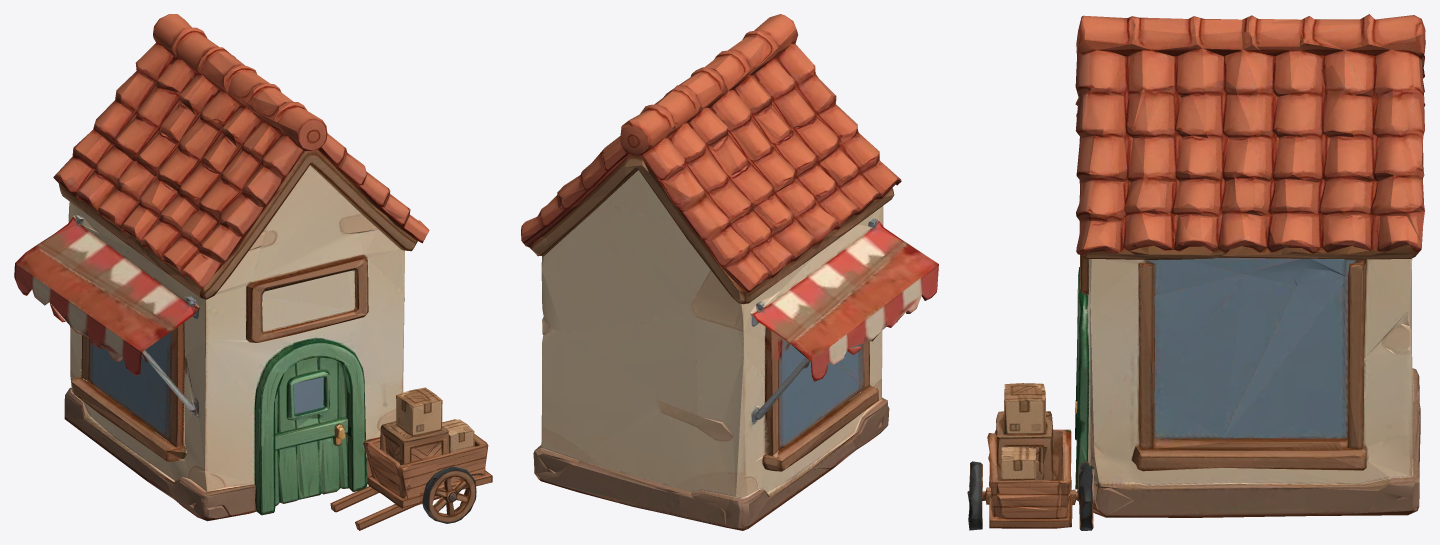
File: moving-shop.glb
3 renders of one model, left to right at view 1: azimuth 30°, elevation 25°; view 2: azimuth 150°, elevation 25°; view 3: azimuth 270°, elevation 25°, orthographic. The views are drawn at different scales.
Size of the model in its own units: 1.55 by 1.9 by 1.72.
1 material, 1 textured.
